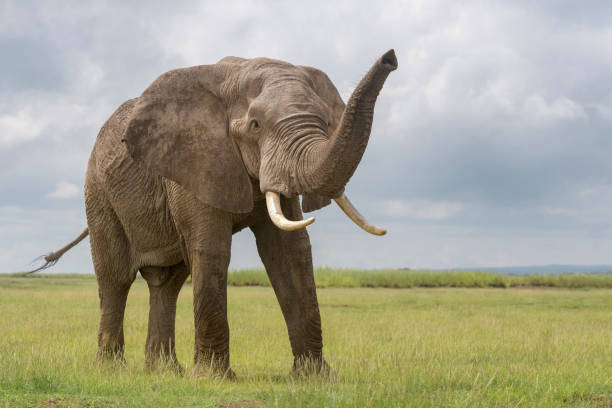africanelephant: (213, 73, 379, 247)
